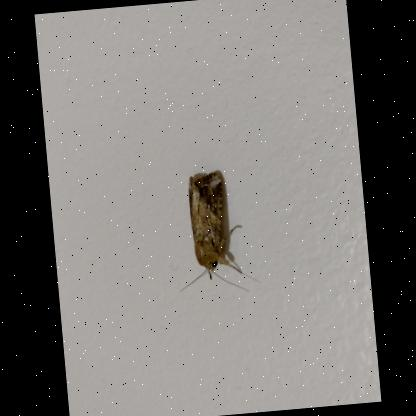Fall Armyworm Moth: (168, 166, 256, 299)
